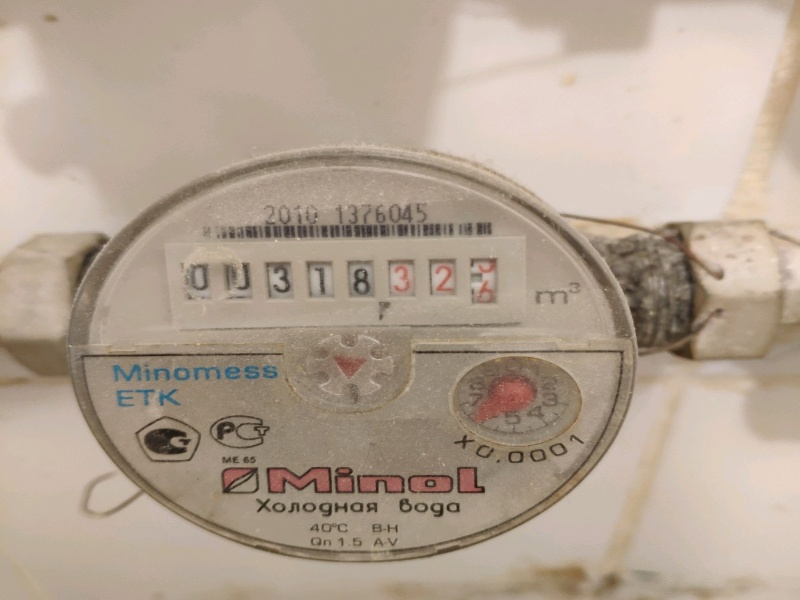meter: (176, 250, 510, 318)
